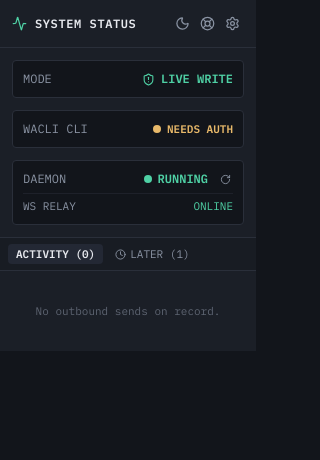
StatusStrip scheduled failures › says why a cancel was refused
Click the button "LATER (1)" at (152, 254), box [107,244,198,264]
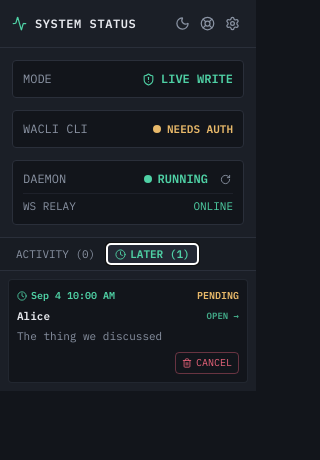
// By title, because the row itself is a button whose name also matches.
Click the button titled "Cancel scheduled dispatch" at (207, 363), box [175,352,239,374]
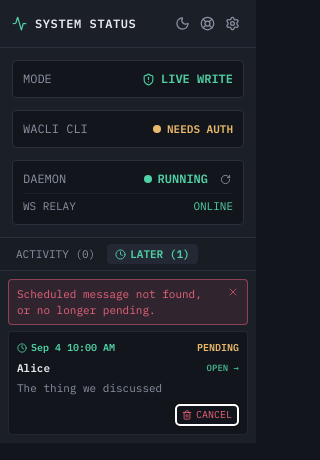
Expected: the message shows "no longer pending", [17,287,202,317]
